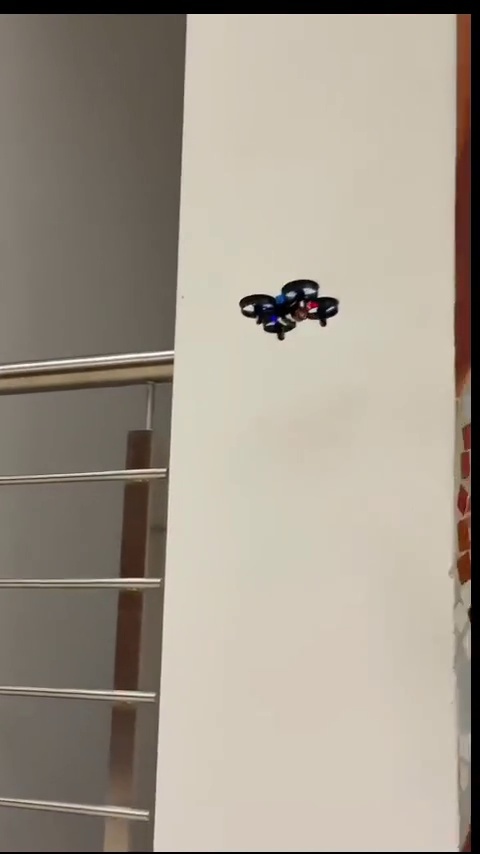drone: (240, 283, 340, 338)
